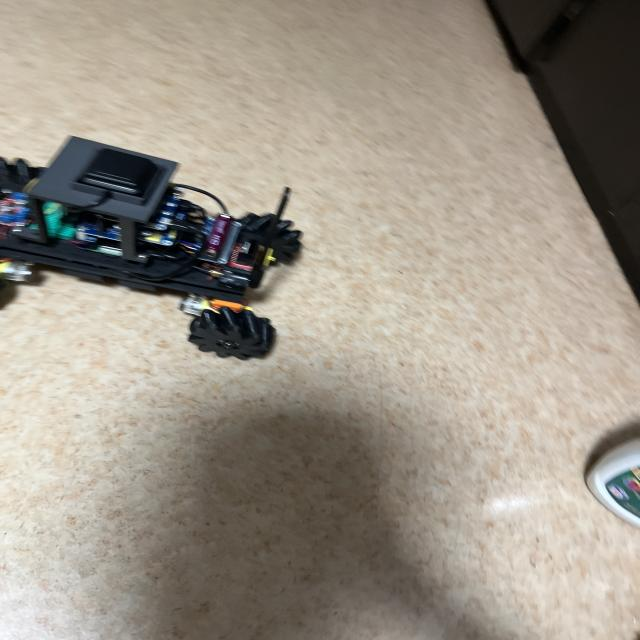robot: (0, 136, 301, 358)
